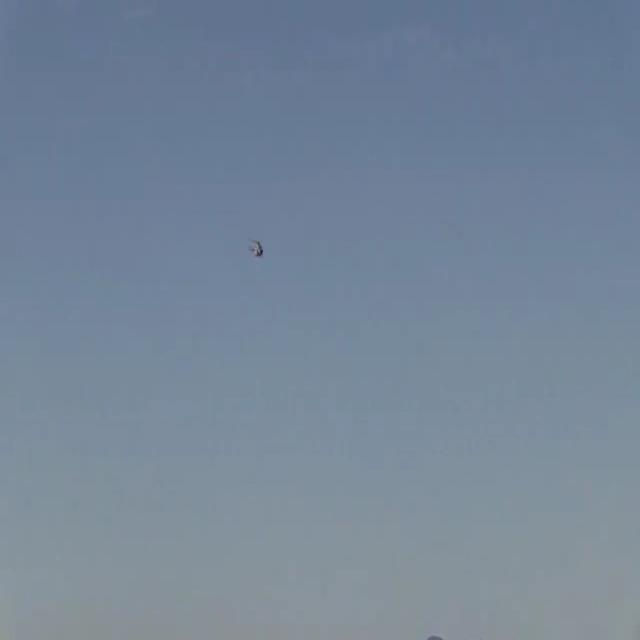Helicopter: (234, 225, 284, 266)
